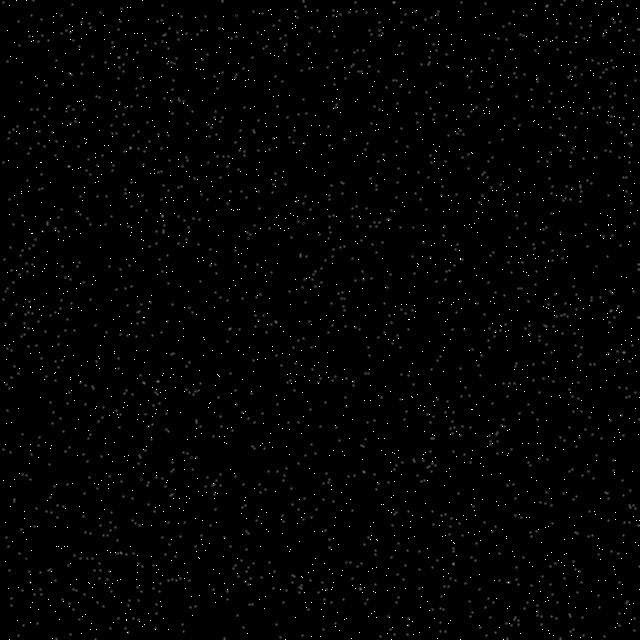nothing: (4, 1, 640, 640)
